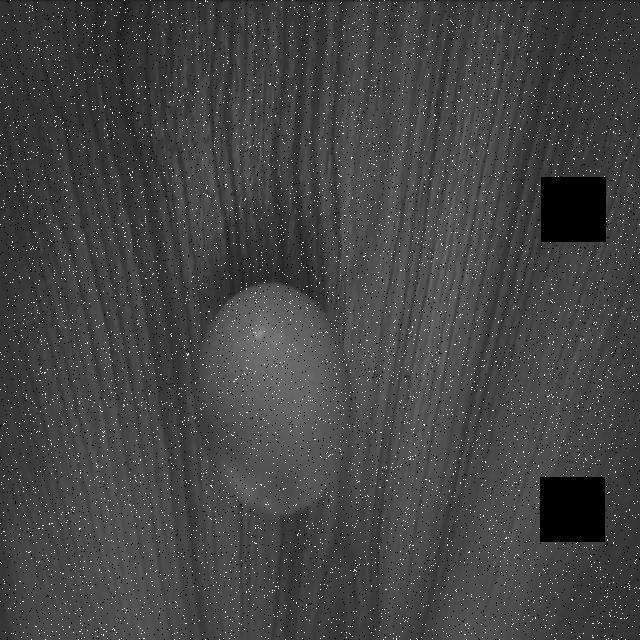egg: (188, 271, 356, 518)
